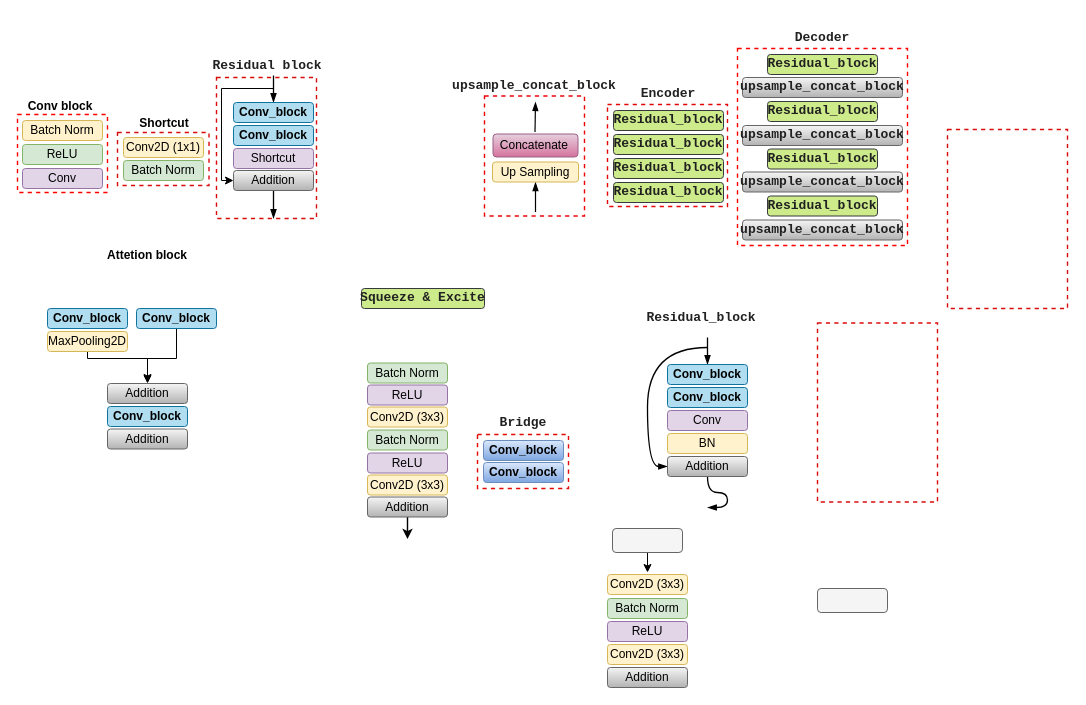
This 1086x705 diagram has some shape labels left out. Each missing label, with the centre of its shape:
Input: point (647, 540)
Output: point (852, 600)
